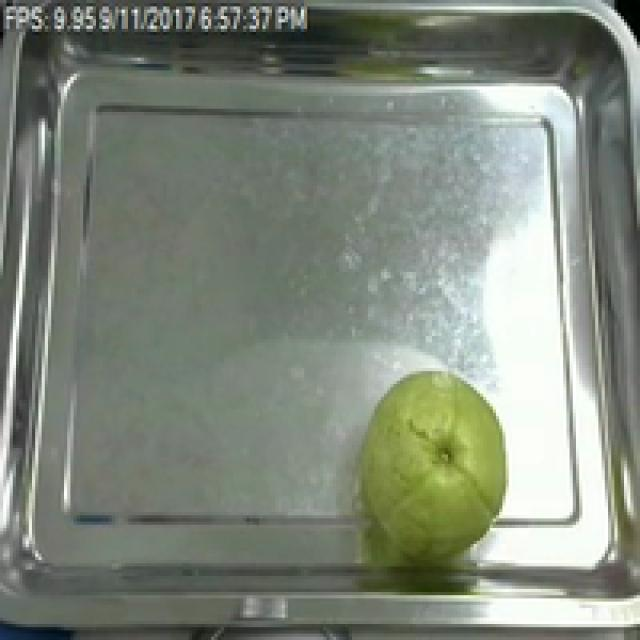Fruit: (348, 362, 522, 560)
